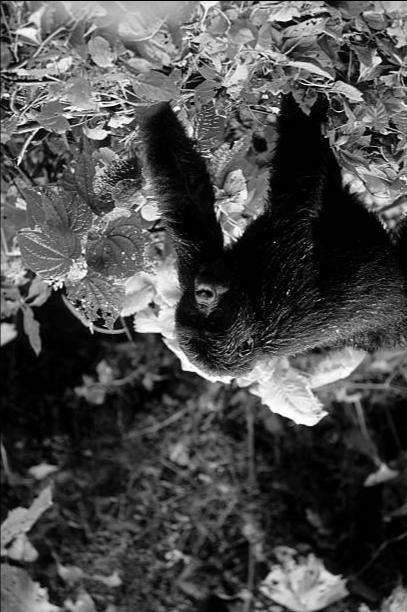goriile_montagne: (69, 48, 404, 382)
